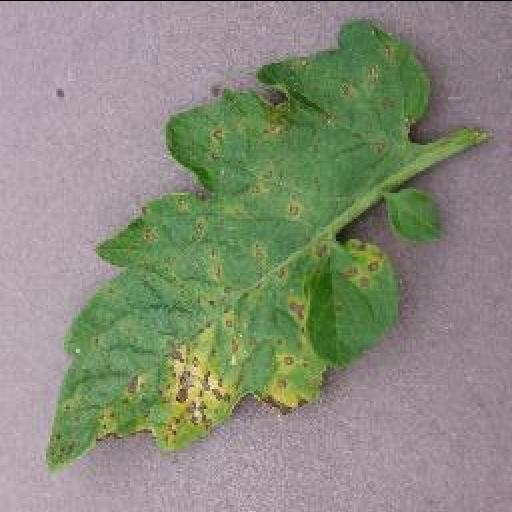disease_tomato: (49, 16, 431, 470)
